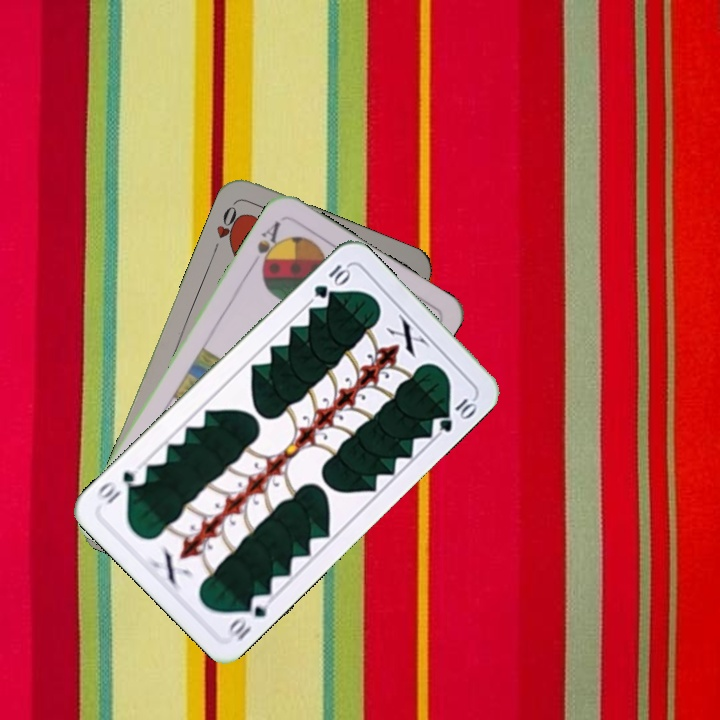G10: (225, 590, 274, 644), (309, 260, 353, 301)
HO: (209, 202, 245, 256)
SA: (253, 217, 285, 274)
